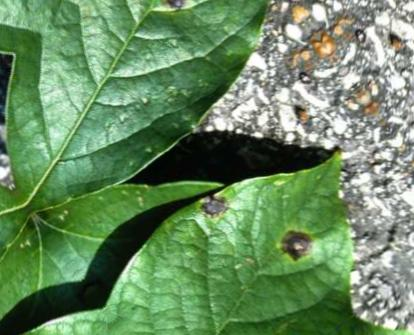Tomato leaf bacterial spot: (72, 91, 414, 335), (0, 0, 323, 246)
